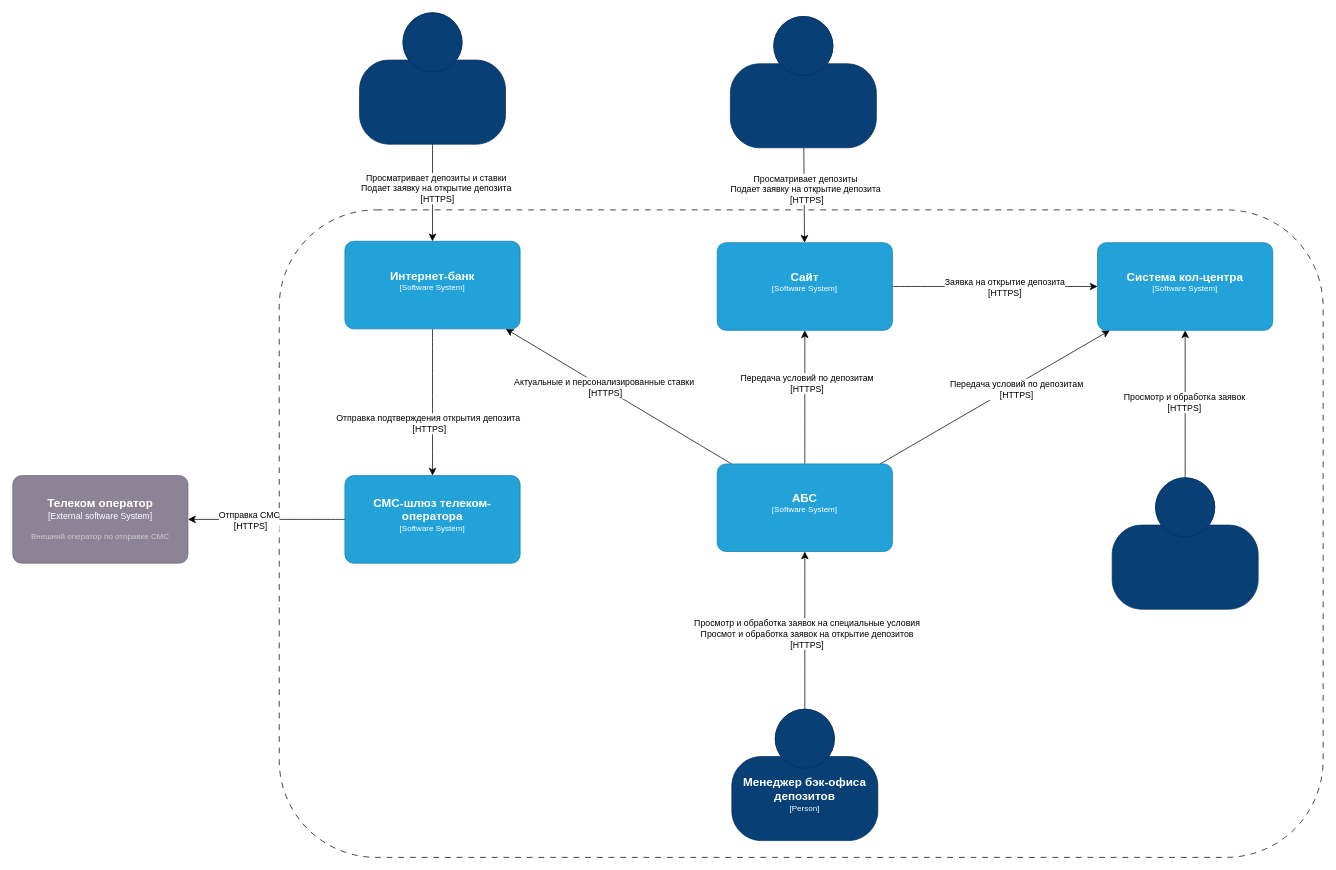
Image size: 1336x870. Some labels were removed from this diagram. Each missing label, with the centre of its shape:
"Клиент интернет-банка [Person] Авторизованный клиент" belongs at point (432, 78).
"Клиент сайта [Person] Неавторизованный клиент" belongs at point (803, 82).
"Оператор кол-центра [Person]" belongs at point (1184, 543).
